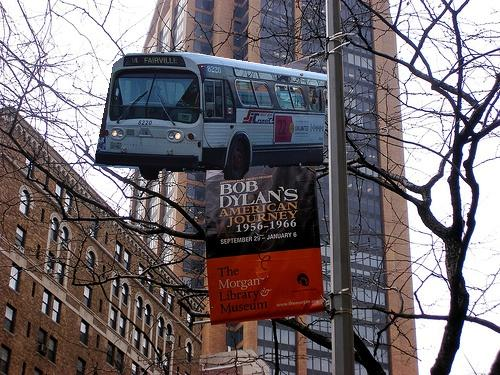tampered: (94, 53, 327, 180)
